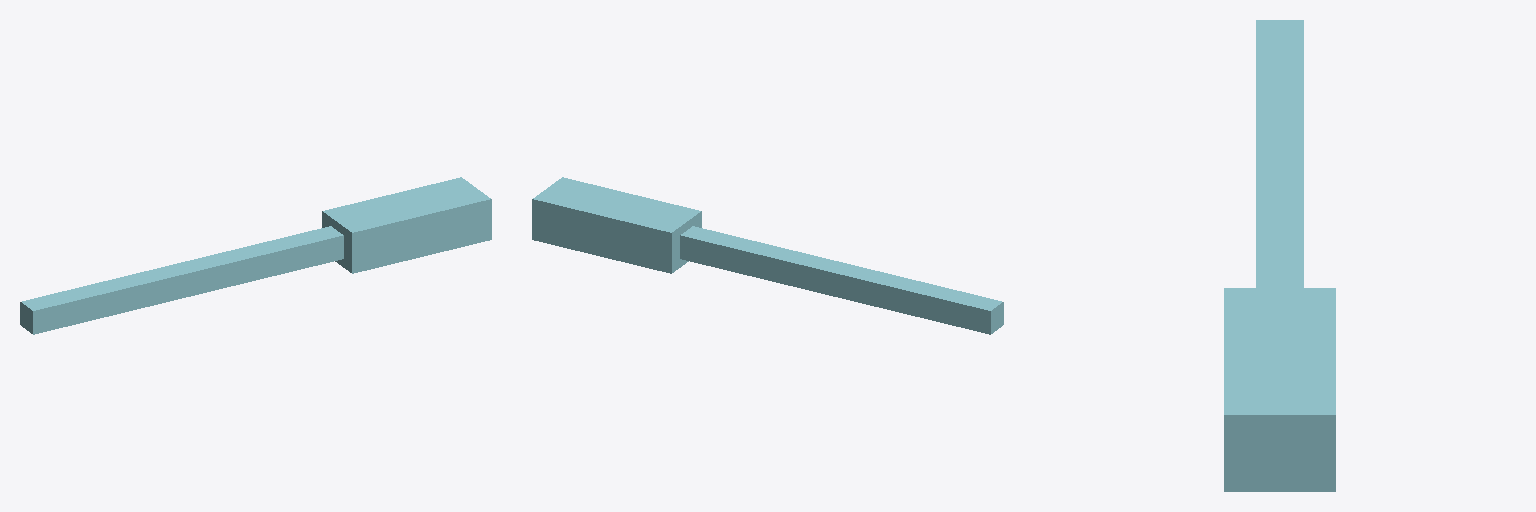
robot.urdf — cuboid_spatula_v5014:
<?xml version="1.0"?>
<robot name="cuboid_spatula_v5014">

  <link name="cuboid_spatula_v5014">
    <!-- Handle -->
    <visual>
      <origin xyz="0 0 0" rpy="0 0 0"/>
      <geometry>
        <box size="0.19903216643262728 0.014269948607109685 0.014516666651832672"/>
      </geometry>
      <material name="material">
        <color rgba="0.639 0.847 0.882 1.0"/>
      </material>
    </visual>
    <collision>
      <origin xyz="0 0 0" rpy="0 0 0"/>
      <geometry>
        <box size="0.19903216643262728 0.014269948607109685 0.014516666651832672"/>
      </geometry>
    </collision>

    <!-- Head -->
    <visual>
      <origin xyz="0.14414471900840964 0 0" rpy="0 0 0"/>
      <geometry>
        <box size="0.08925727158419199 0.0332019713458474 0.02510660345589489"/>
      </geometry>
      <material name="material">
        <color rgba="0.639 0.847 0.882 1.0"/>
      </material>
    </visual>
    <collision>
      <origin xyz="0.14414471900840964 0 0" rpy="0 0 0"/>
      <geometry>
        <box size="0.08925727158419199 0.0332019713458474 0.02510660345589489"/>
      </geometry>
    </collision>

    <inertial>
      <density value="400.0"/>
    </inertial>
  </link>

</robot>

--- Facts derived from the render (not from the file) ---
The picture shows the robot from 3 angles, left to right: view 1: azimuth 30°, elevation 25°; view 2: azimuth 150°, elevation 25°; view 3: azimuth 270°, elevation 25°; orthographic projection.
Robot: cuboid_spatula_v5014 — 1 links, 0 joints (none); root link cuboid_spatula_v5014; default pose: every joint at zero.
Visible links, largest first — view 1: cuboid_spatula_v5014; view 2: cuboid_spatula_v5014; view 3: cuboid_spatula_v5014.
Link boxes in pixels (x1,y1,x2,y2): cuboid_spatula_v5014: (20,177,491,334); cuboid_spatula_v5014: (532,177,1003,334); cuboid_spatula_v5014: (1224,20,1335,491).
Size in the robot's own frame: 0.2883 by 0.0332 by 0.0251 metres.
Geometry: primitives only (box / cylinder / sphere), no mesh files.
